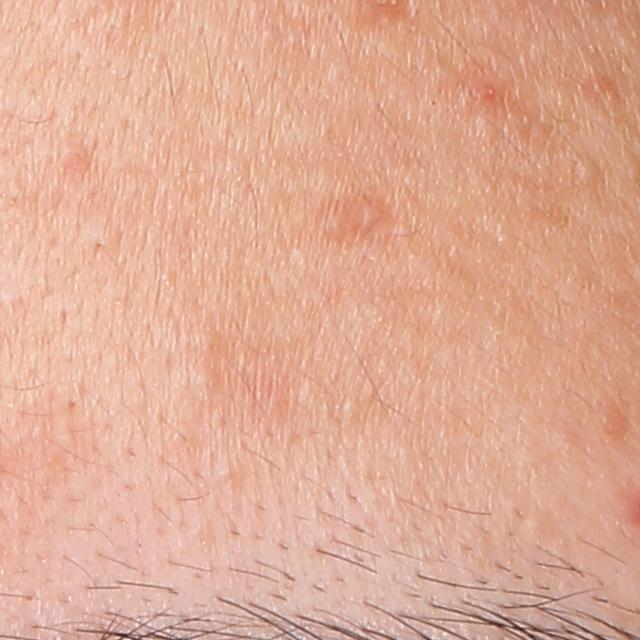comedo: (175, 359, 230, 404), (55, 136, 96, 174), (214, 461, 237, 486)
